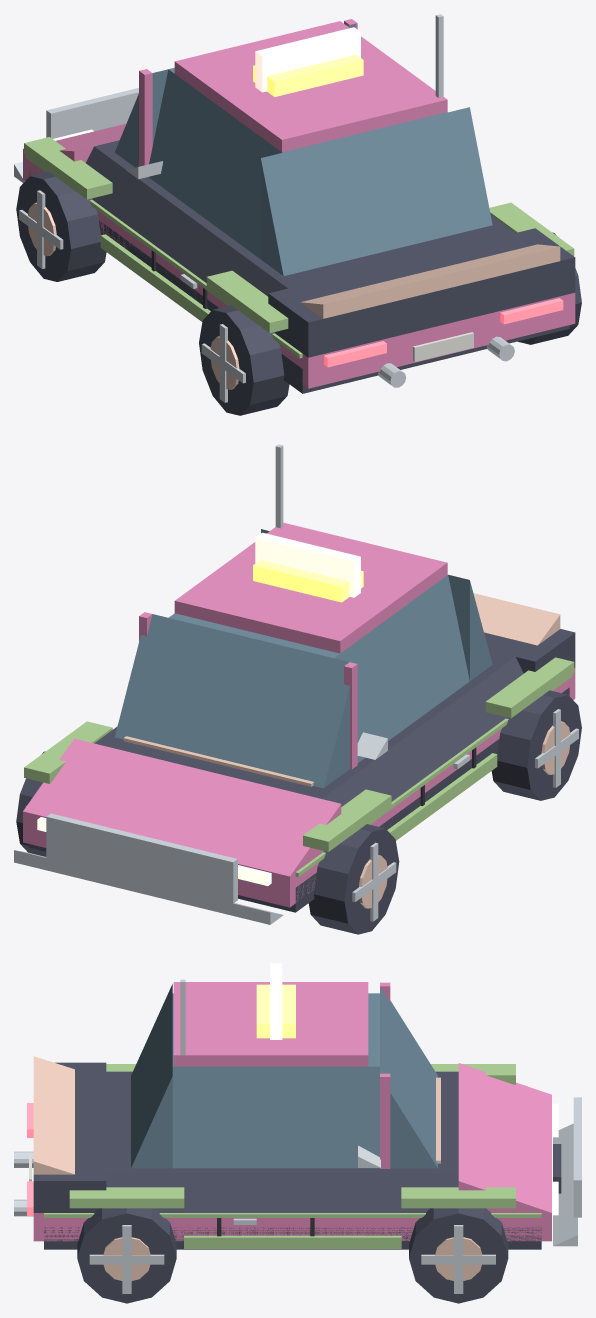
The model's file is neon_delivery.glb.
3 views of the same model, one above another, from view 1: azimuth 30°, elevation 25°; view 2: azimuth 150°, elevation 25°; view 3: azimuth 270°, elevation 25° (orthographic). The views are drawn at different scales.
Visible parts, largest first — view 1: RearWindow.154, Tail.054, Roof.254, CabinSideL.051, ShoulderL.051, Body.254, Wheel_RL.214, Wheel_FL.214, Ducktail.039, BodyUpper.051, RoofSign.028, Bullbar.026 (+21 smaller); view 2: Windshield.154, Nose.051, Roof.254, CabinSideL.051, Bullbar.026, ShoulderL.051, Wheel_FL.214, Wheel_RL.214, BodyUpper.051, Body.254, Bumper.250, RoofSign.028 (+18 smaller); view 3: CabinSideR.051, Roof.254, ShoulderR.051, Nose.051, Windshield.154, Body.254, BodyUpper.051, RearWindow.154, Tail.054, Wheel_RR.214, Wheel_FR.214, Ducktail.039 (+19 smaller).
Boxes of the visible parts, box(x1,y1,x2,y2) form: RearWindow.154: box(261, 107, 492, 275); Tail.054: box(268, 228, 575, 357); Roof.254: box(174, 21, 447, 152); CabinSideL.051: box(148, 69, 282, 259); ShoulderL.051: box(86, 146, 287, 296); Body.254: box(23, 149, 575, 388); Wheel_RL.214: box(199, 305, 289, 415); Wheel_FL.214: box(16, 171, 106, 281); Ducktail.039: box(300, 244, 560, 318); BodyUpper.051: box(94, 140, 514, 288); RoofSign.028: box(255, 27, 360, 92); Bullbar.026: box(46, 88, 138, 138); Windshield.154: box(115, 614, 349, 788); Nose.051: box(23, 738, 341, 876); Roof.254: box(174, 522, 447, 653); CabinSideL.051: box(334, 575, 469, 762); Bullbar.026: box(46, 813, 237, 903); ShoulderL.051: box(322, 657, 523, 806); Wheel_FL.214: box(308, 824, 399, 934); Wheel_RL.214: box(491, 690, 581, 800); BodyUpper.051: box(94, 650, 514, 798); Body.254: box(23, 668, 575, 907); Bumper.250: box(14, 850, 283, 924); RoofSign.028: box(255, 532, 360, 597); CabinSideR.051: box(172, 1066, 379, 1168); Roof.254: box(173, 982, 368, 1066); ShoulderR.051: box(106, 1172, 458, 1212); Nose.051: box(458, 1063, 551, 1212); Windshield.154: box(380, 987, 437, 1168); Body.254: box(33, 1213, 551, 1241); BodyUpper.051: box(106, 1071, 458, 1172); RearWindow.154: box(131, 984, 172, 1168); Tail.054: box(33, 1062, 106, 1212); Wheel_RR.214: box(77, 1208, 176, 1303); Wheel_FR.214: box(409, 1208, 508, 1303); Ducktail.039: box(33, 1056, 74, 1174).
Bounding box in the file's own units: 3.4 × 3.04 × 5.48.
